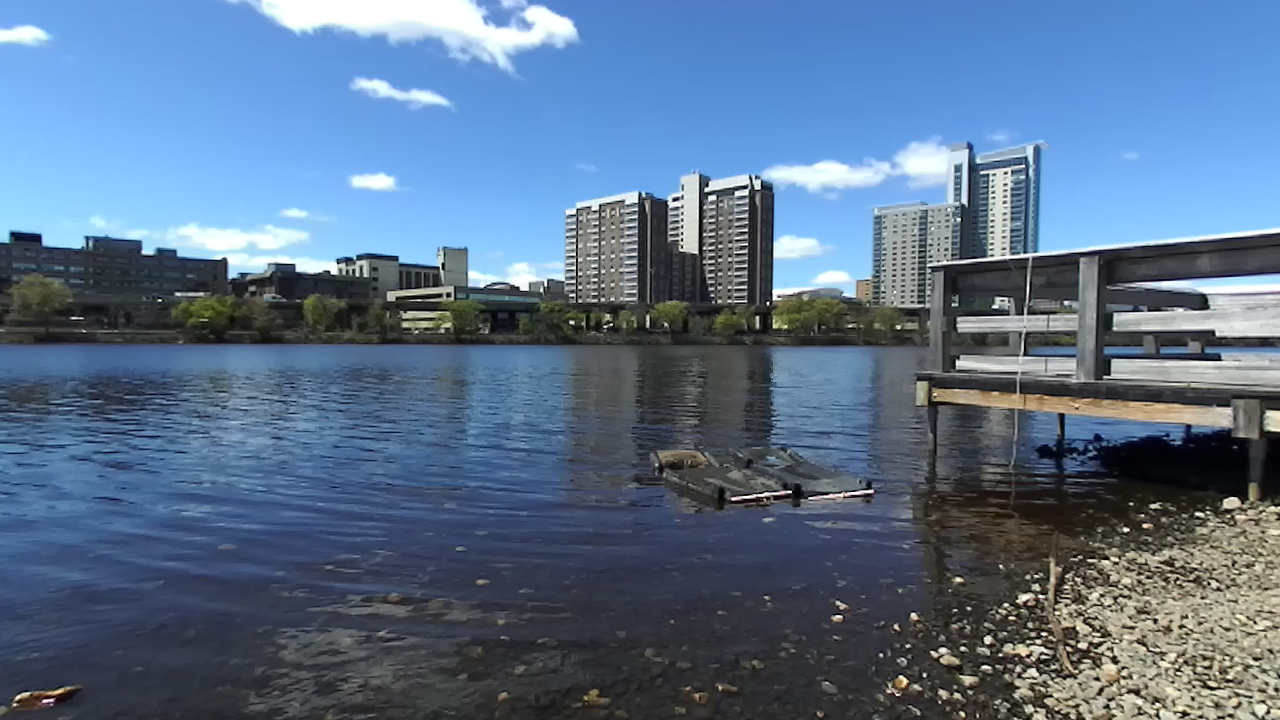bag: (656, 468, 793, 505), (750, 461, 874, 498), (726, 445, 811, 466), (649, 450, 718, 468)
